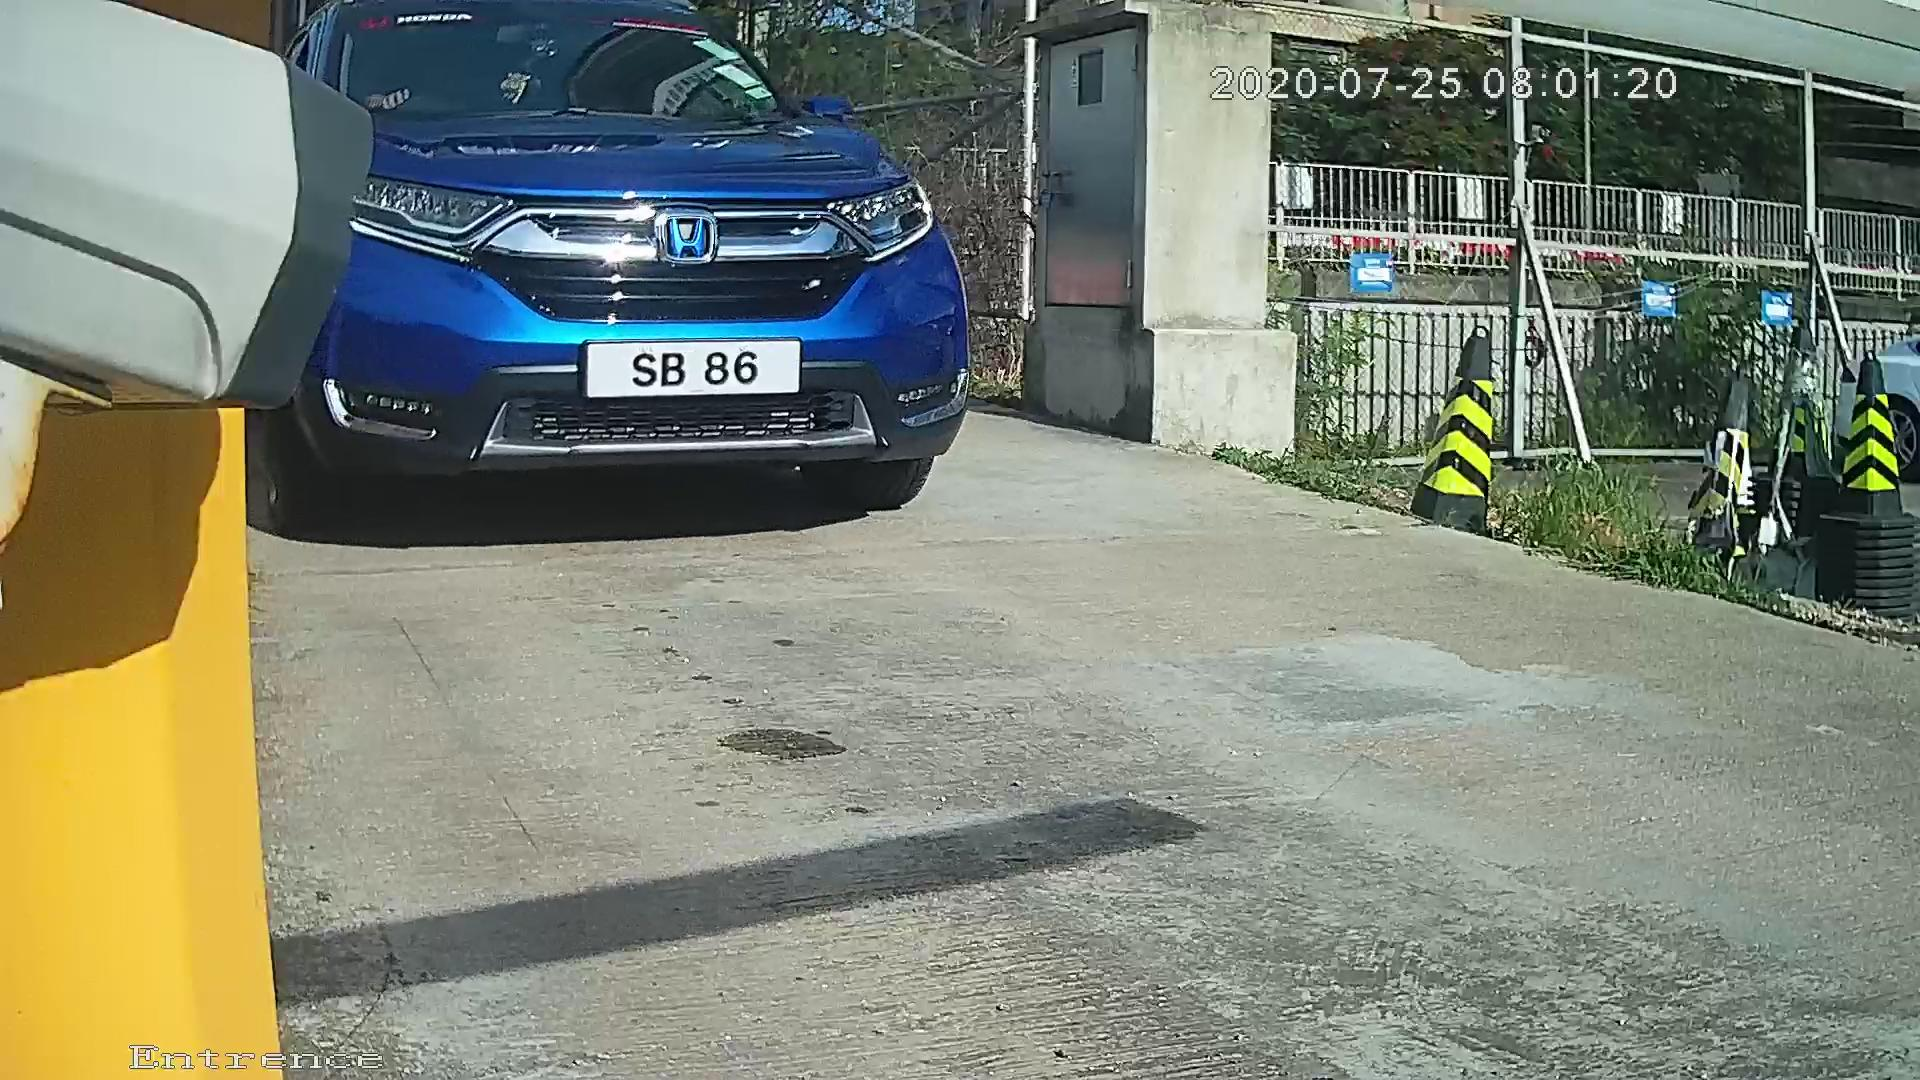Car: (69, 5, 1115, 569)
License Plate: (566, 328, 815, 420)
